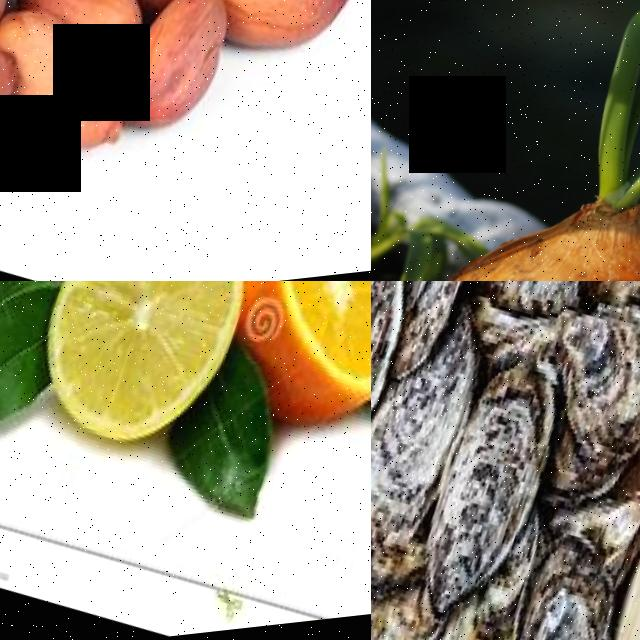onion: (371, 142, 640, 281)
oysters: (388, 354, 580, 633), (371, 324, 492, 558), (515, 288, 640, 495), (460, 526, 640, 640), (371, 281, 444, 449), (443, 281, 595, 351), (371, 550, 455, 640)
peanuts: (0, 0, 142, 177), (97, 0, 238, 166), (213, 0, 365, 89), (3, 0, 148, 56)
